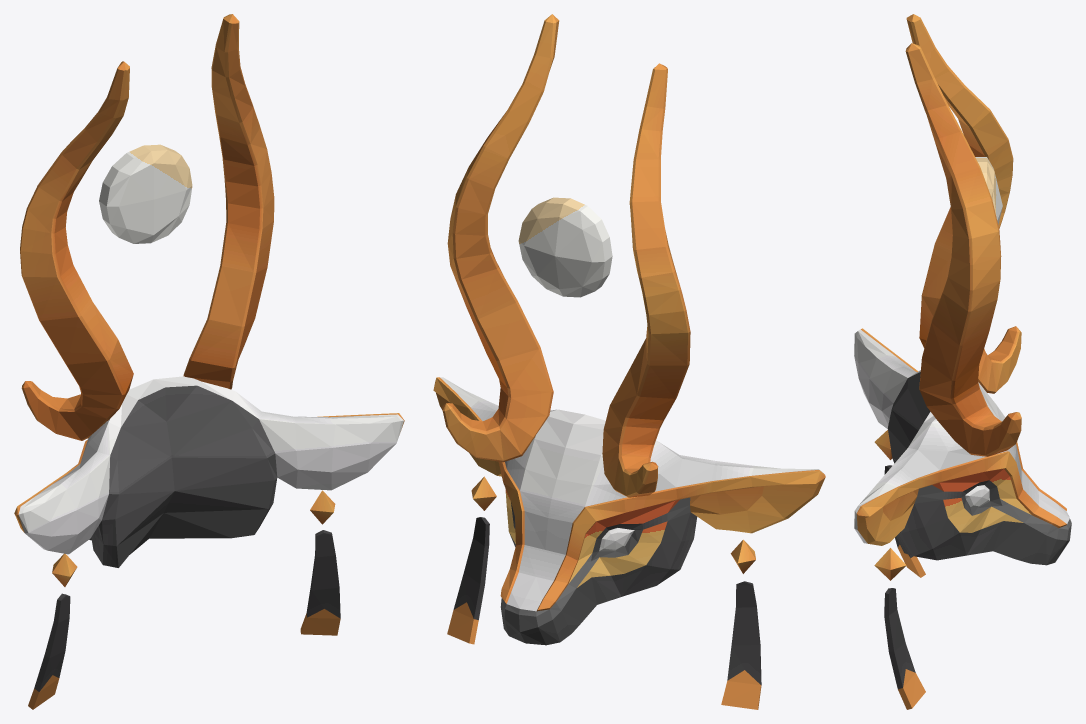
The model's file is CharSkyKid_Mask_AP25Gazelle.glb.
The picture shows the model from 3 angles, left to right: view 1: azimuth 30°, elevation 25°; view 2: azimuth 150°, elevation 25°; view 3: azimuth 270°, elevation 25°; orthographic projection. The views are drawn at different scales.
Parts seen in each view (by area): view 1: CharSkyKid_Mask_AP25Gazelle; view 2: CharSkyKid_Mask_AP25Gazelle; view 3: CharSkyKid_Mask_AP25Gazelle.
Part boxes in pixels (bbox=[...]): CharSkyKid_Mask_AP25Gazelle: bbox=[14, 14, 404, 709]; CharSkyKid_Mask_AP25Gazelle: bbox=[433, 14, 825, 709]; CharSkyKid_Mask_AP25Gazelle: bbox=[854, 14, 1071, 709].
Bounding box in the file's own units: 5.17 × 8.2 × 2.62.
1 material, 1 textured.
